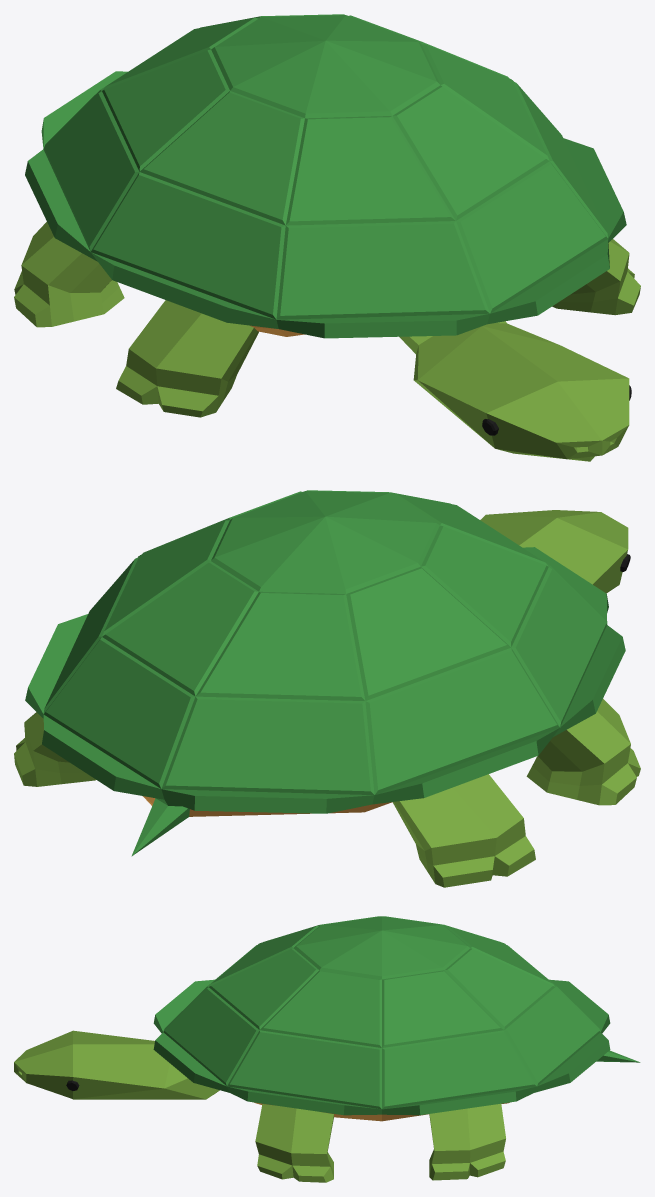
Rendered from Turtle_01.fbx.
3 renders of one model, top to bottom at view 1: azimuth 30°, elevation 25°; view 2: azimuth 150°, elevation 25°; view 3: azimuth 270°, elevation 25°, orthographic. The views are drawn at different scales.
Parts seen in each view (by area): view 1: Turtle_01; view 2: Turtle_01; view 3: Turtle_01.
Part boxes in pixels (x1=…): Turtle_01: x1=14, y1=14, x2=640, y2=461; Turtle_01: x1=14, y1=490, x2=640, y2=887; Turtle_01: x1=14, y1=916, x2=640, y2=1182.
Bounding box in the file's own units: 6.53 × 3.22 × 10.66.
